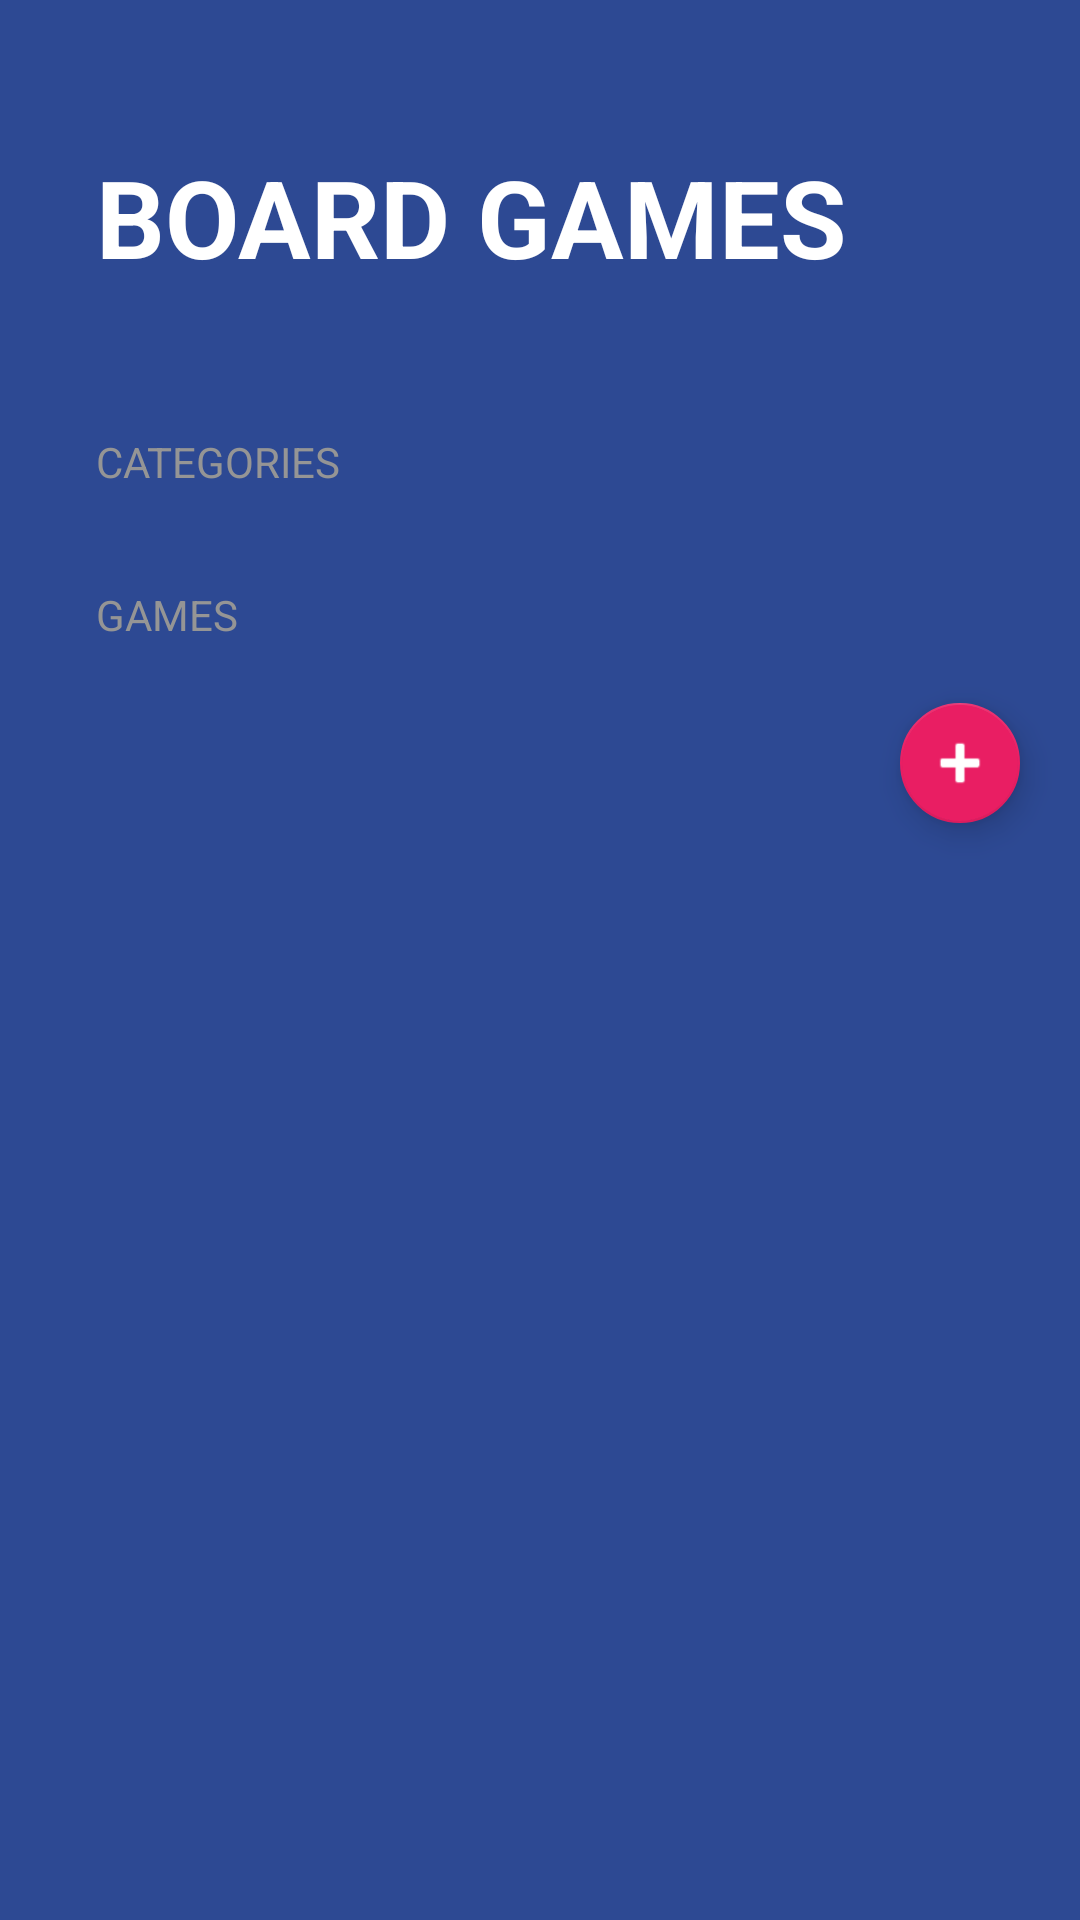

Named icons in this screenshot (1080px×1920px) and their bounding boxes, (x1, y1, x2, y2):
Añade un juego: (900, 703, 1020, 823)
